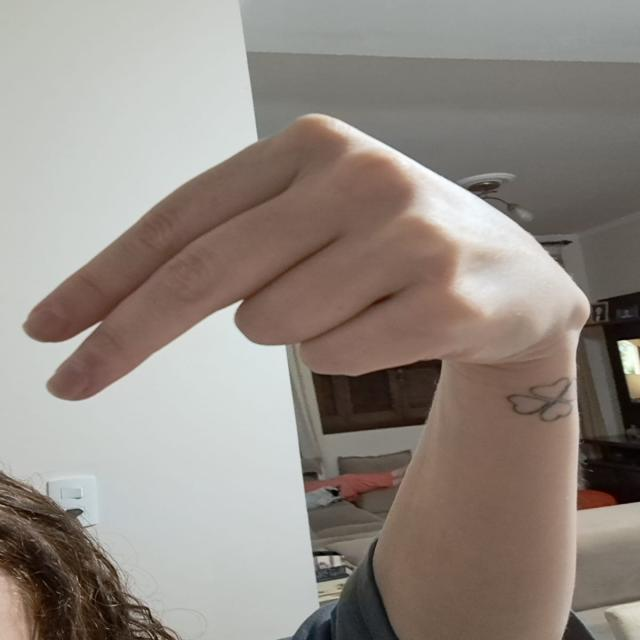N: (0, 108, 640, 406)
